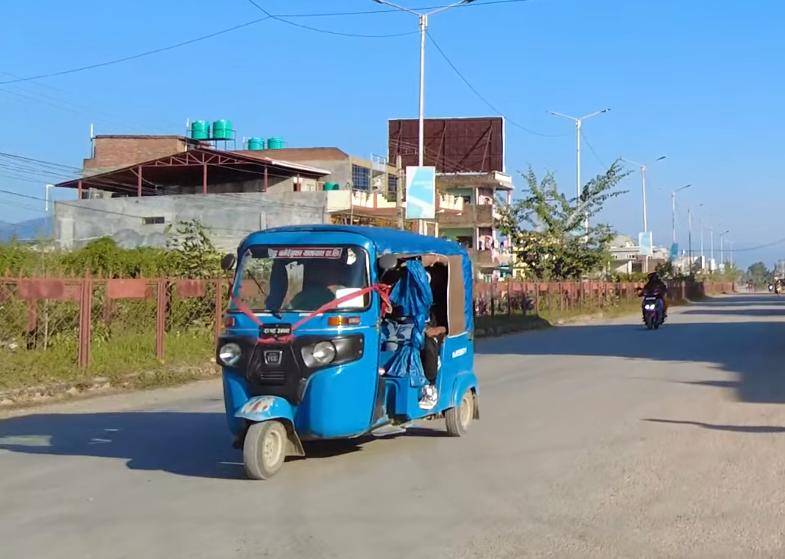auto_rickshaw: (212, 218, 490, 482)
